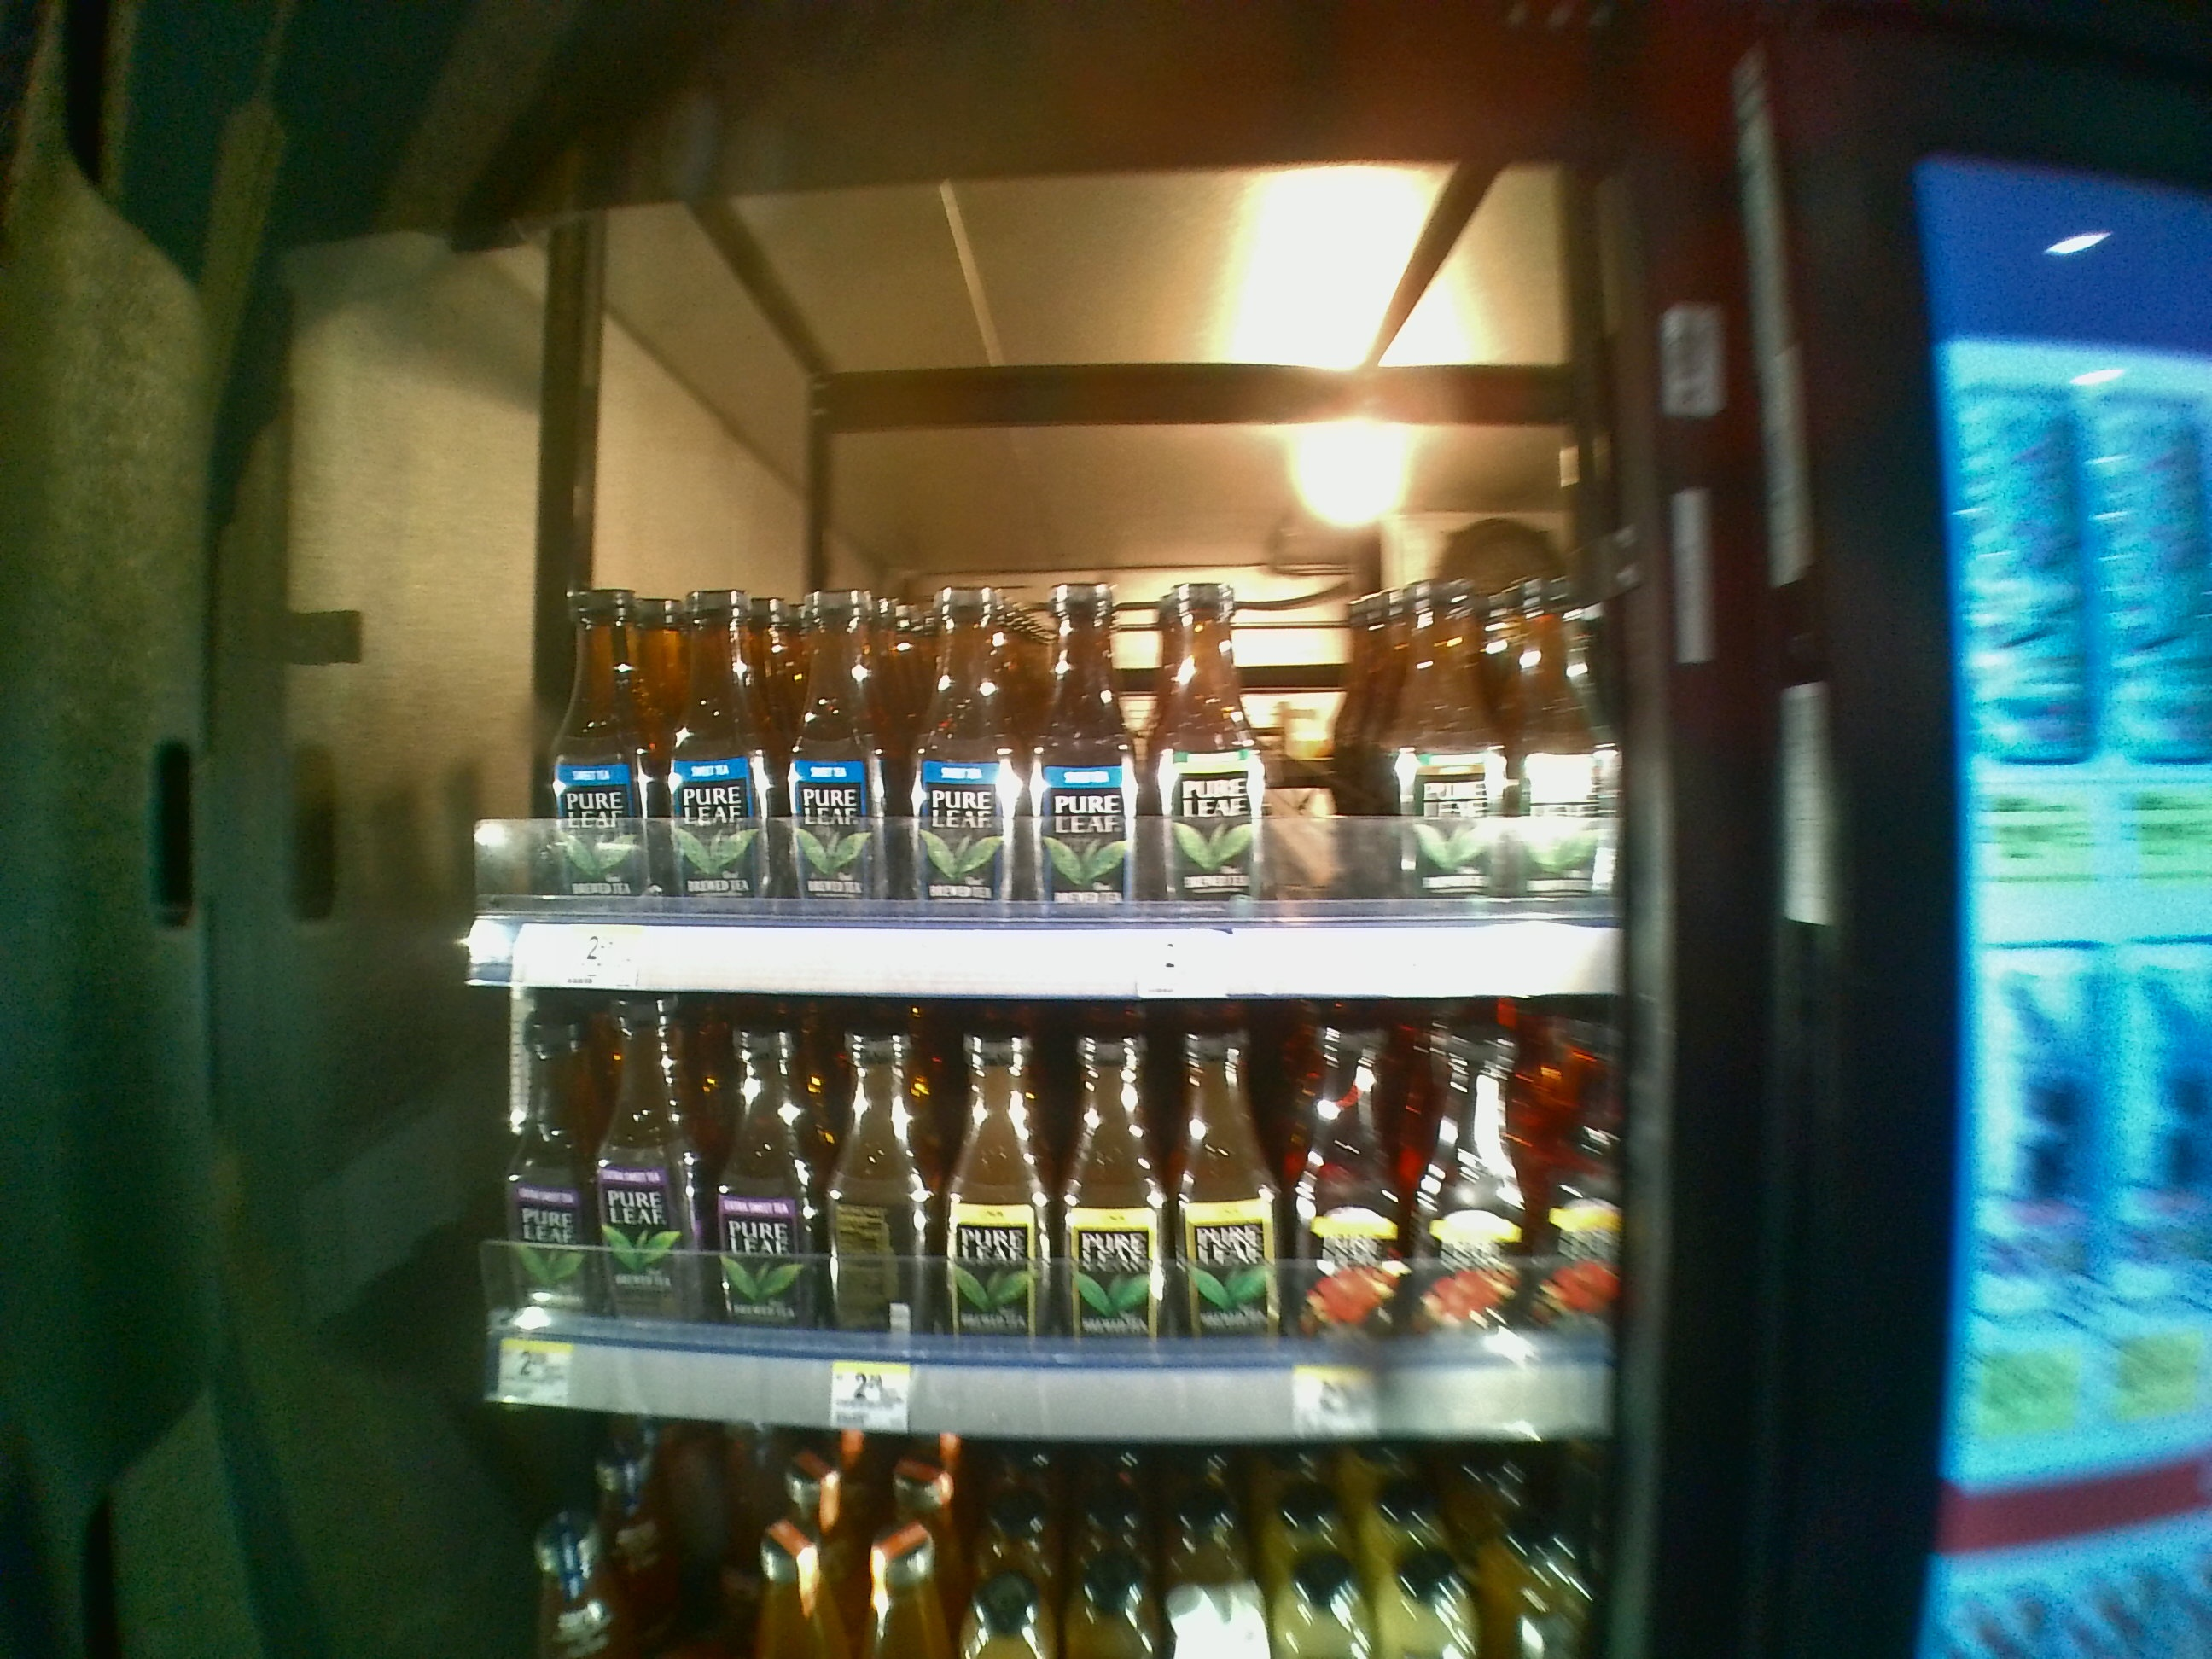shelf: (467, 227, 1622, 990), (467, 1002, 1630, 1424)
